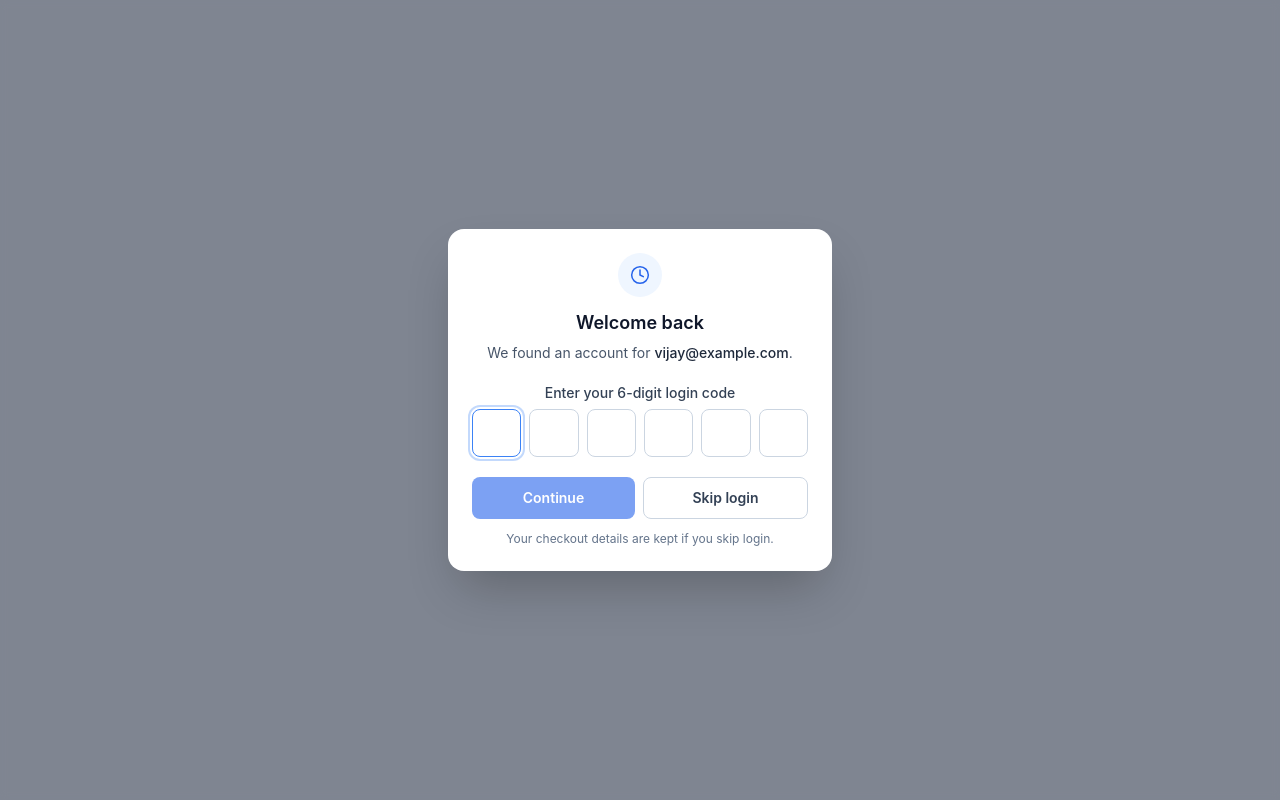
OtpModal › keeps the modal open and shows the error on a wrong code
Type "111111" into the field named "login code digit 1 of 6" at {"x": 497, "y": 433}, box [472, 409, 521, 457]
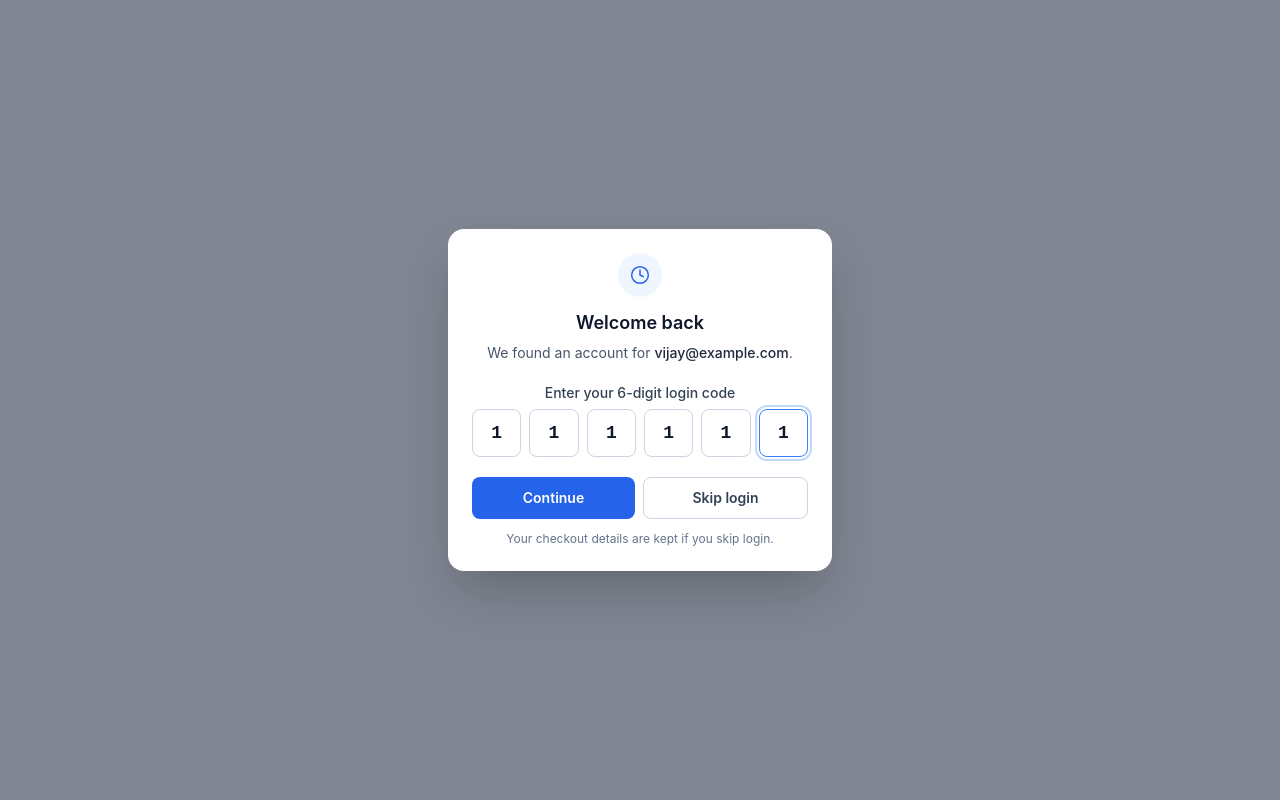
Click the button "Continue" at {"x": 554, "y": 498}, box [472, 477, 635, 519]
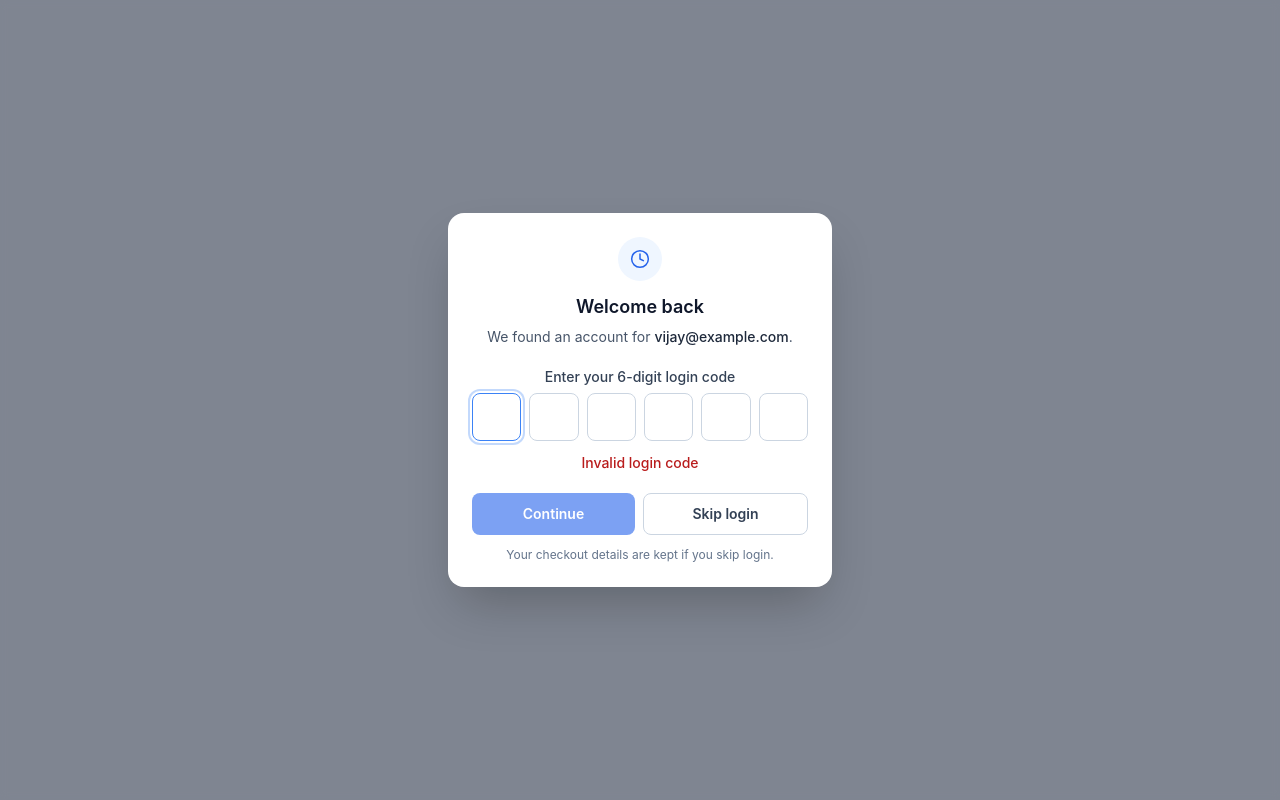
Expected: the dialog is shown, [448, 213, 832, 587]
Expected: the message reads "Invalid login code", [581, 454, 698, 471]
